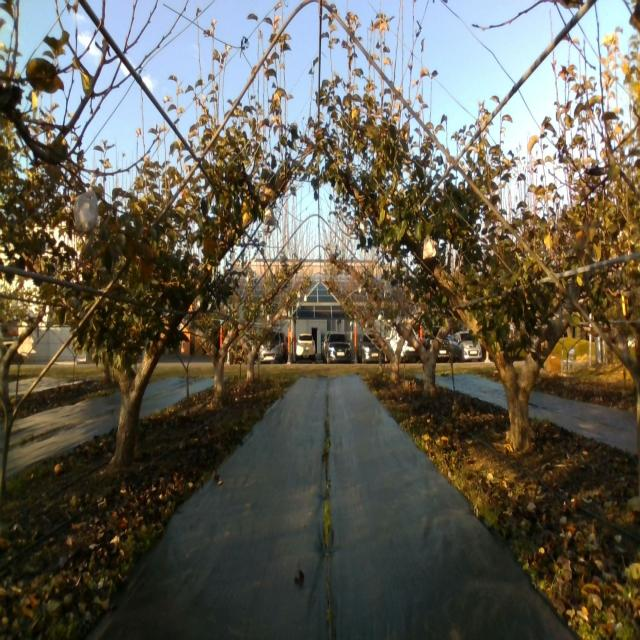pearbags: (74, 188, 100, 234), (422, 235, 438, 261), (264, 207, 274, 225)
